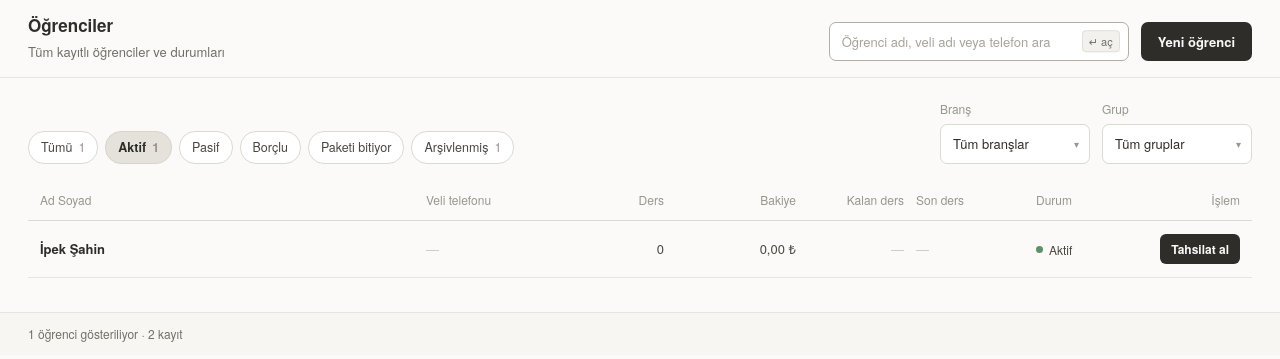
Scenario: öğrenci listesinin para eylemi › arşiv görünümünde Geri al eylemini korur
Click the button "Arşivlenmiş 1".
click(463, 147)  # box [411,131,514,164]
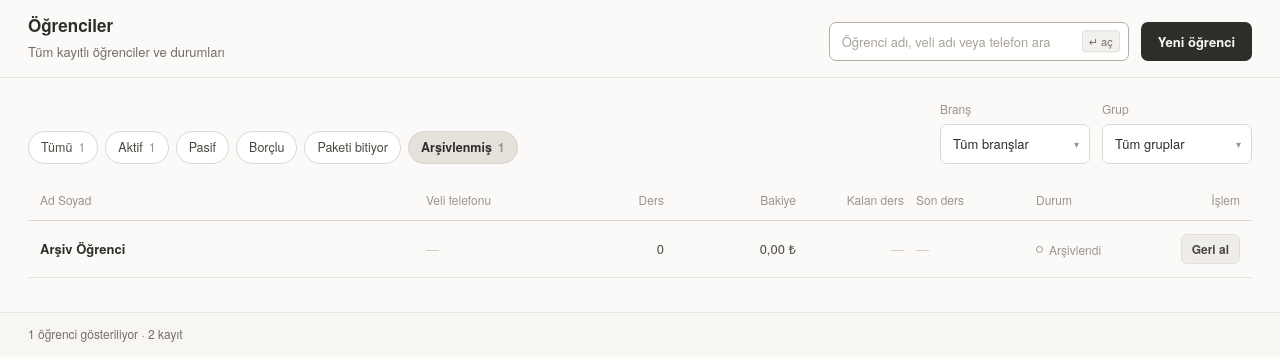
Result: the button "Geri al" is shown at [1181,234,1240,264]
